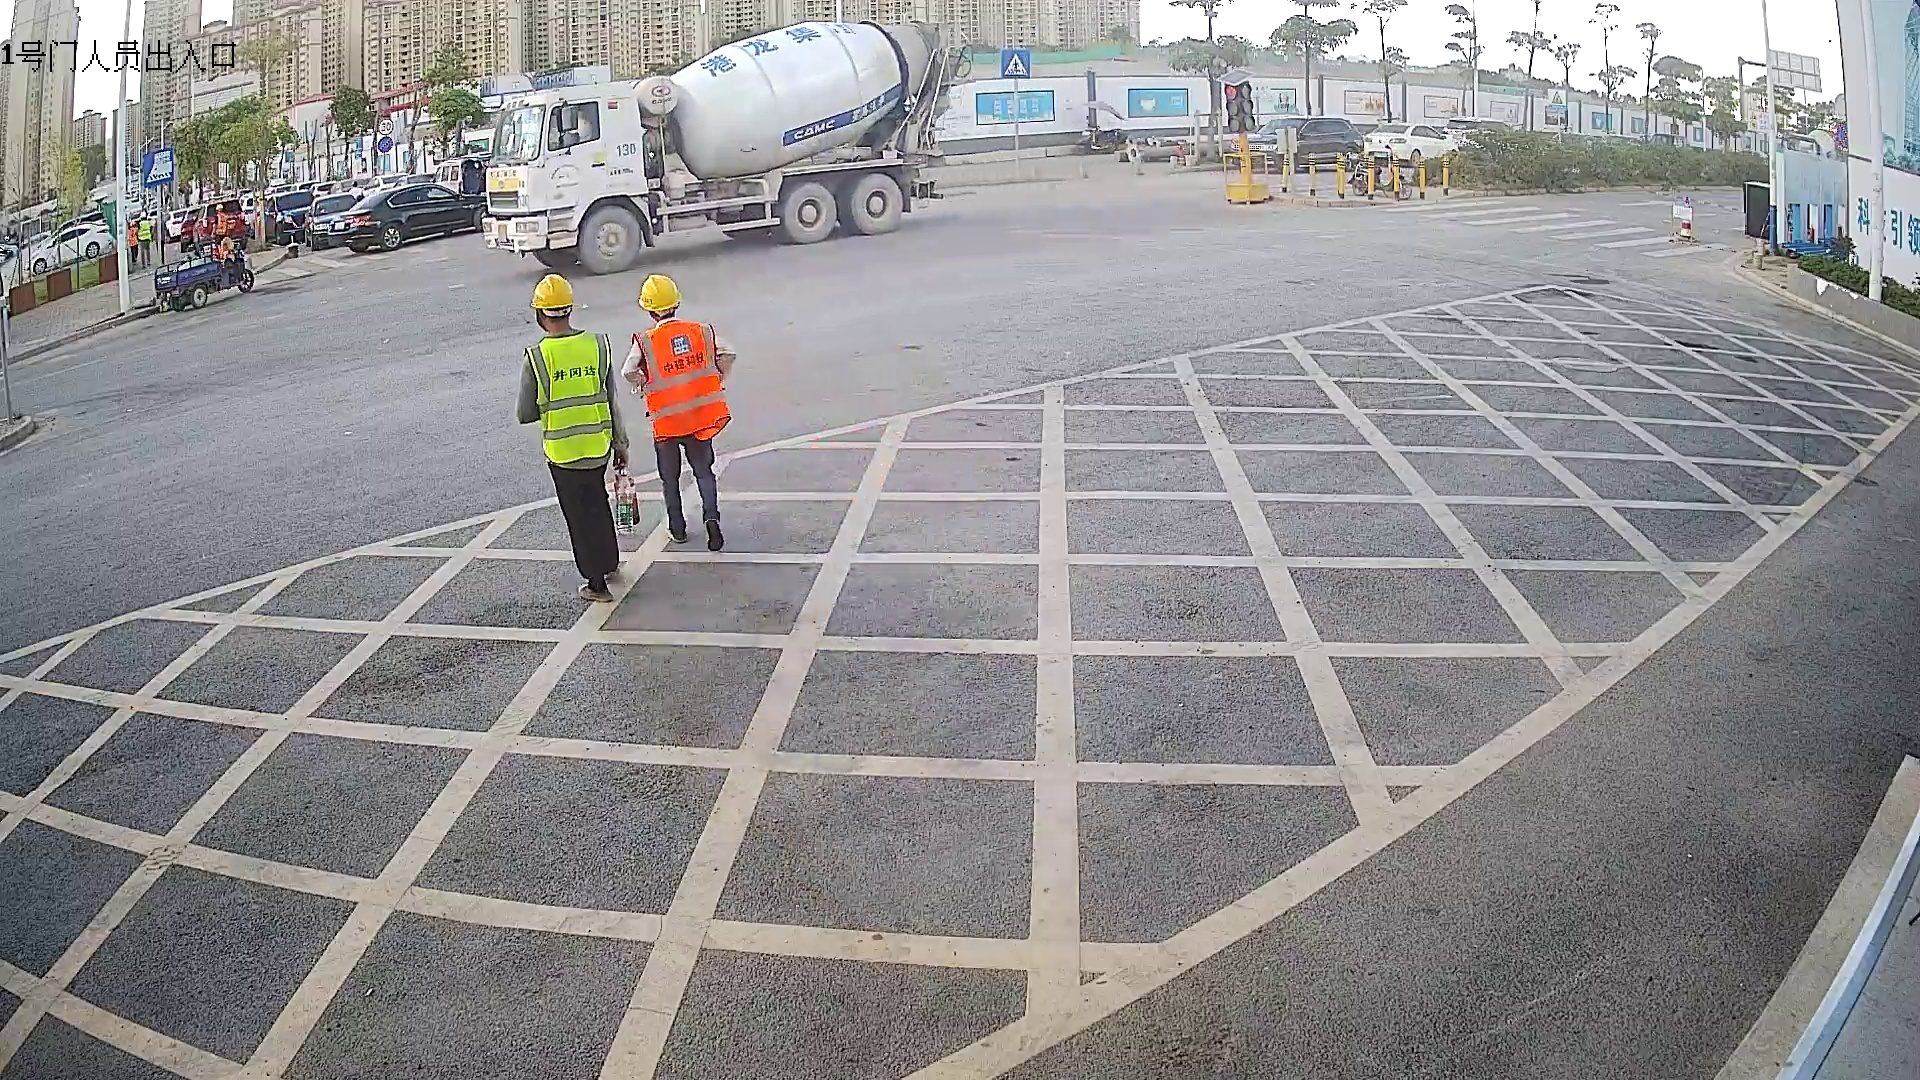person: (512, 265, 627, 608), (622, 267, 741, 555)
reflective_vest: (522, 330, 618, 471), (631, 316, 733, 444)
safety_helmet: (528, 267, 580, 336), (636, 269, 681, 321)
